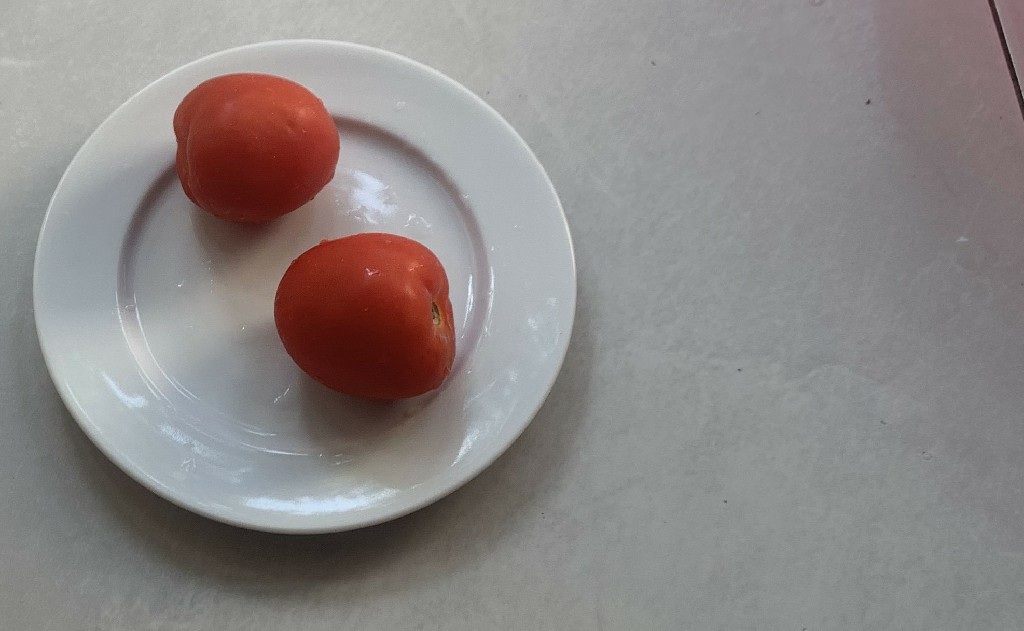OK: (273, 242, 458, 391), (174, 68, 328, 225)
